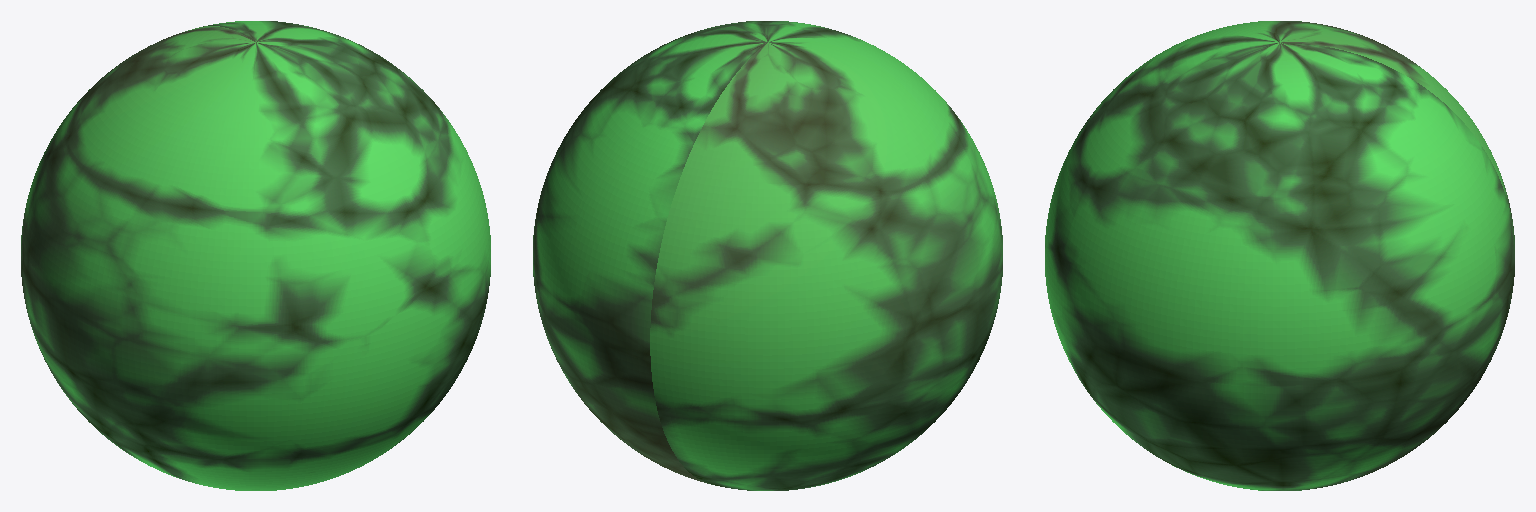
3 views of the same model, side by side, from view 1: azimuth 30°, elevation 25°; view 2: azimuth 150°, elevation 25°; view 3: azimuth 270°, elevation 25° (orthographic).
Parts seen in each view (by area): view 1: Sphere001; view 2: Sphere001; view 3: Sphere001.
Boxes of the visible parts, <box> form: Sphere001: <box>21,21,490,490</box>; Sphere001: <box>533,21,1002,490</box>; Sphere001: <box>1045,21,1514,490</box>.
Bounding box in the file's own units: 2 × 2 × 2.
Materials: 1 (1 with a texture image).